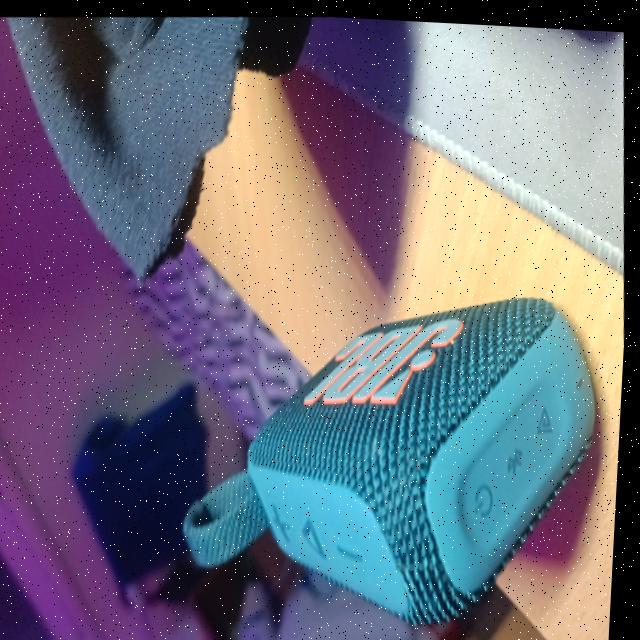column JBL: (190, 291, 599, 619)
